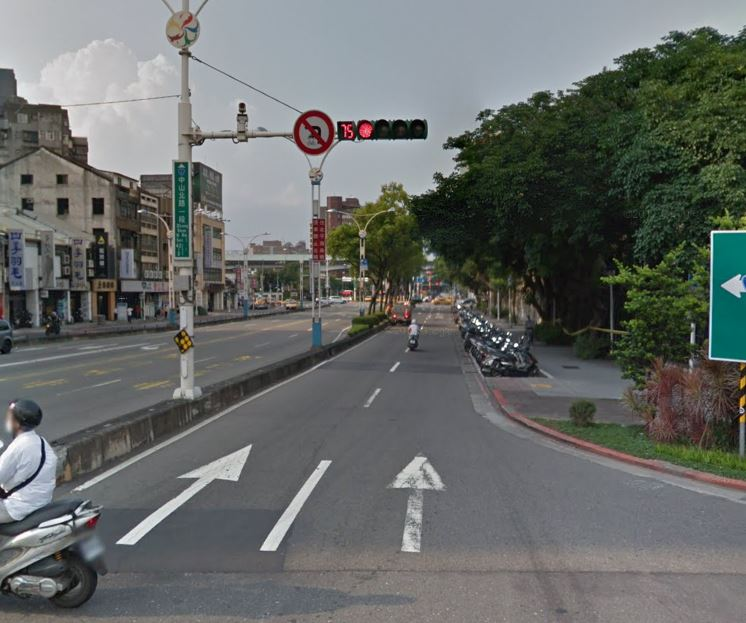Traffic_light_red: (337, 119, 428, 141)
